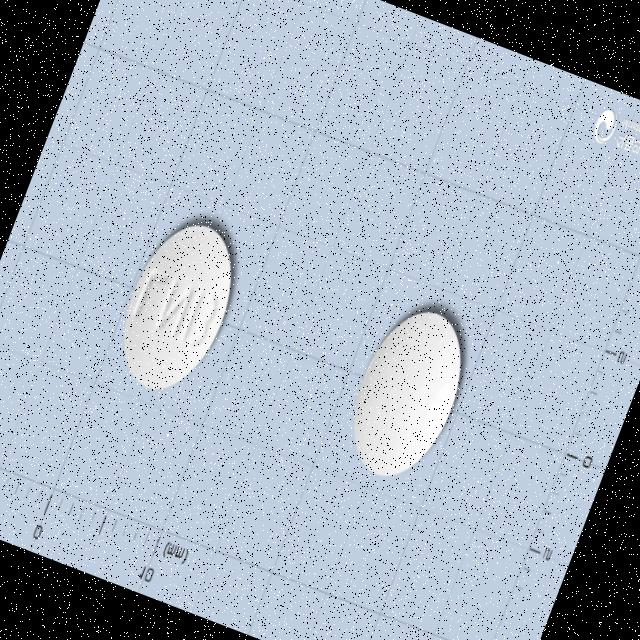Lenovo: (102, 210, 254, 408), (332, 296, 482, 493)
